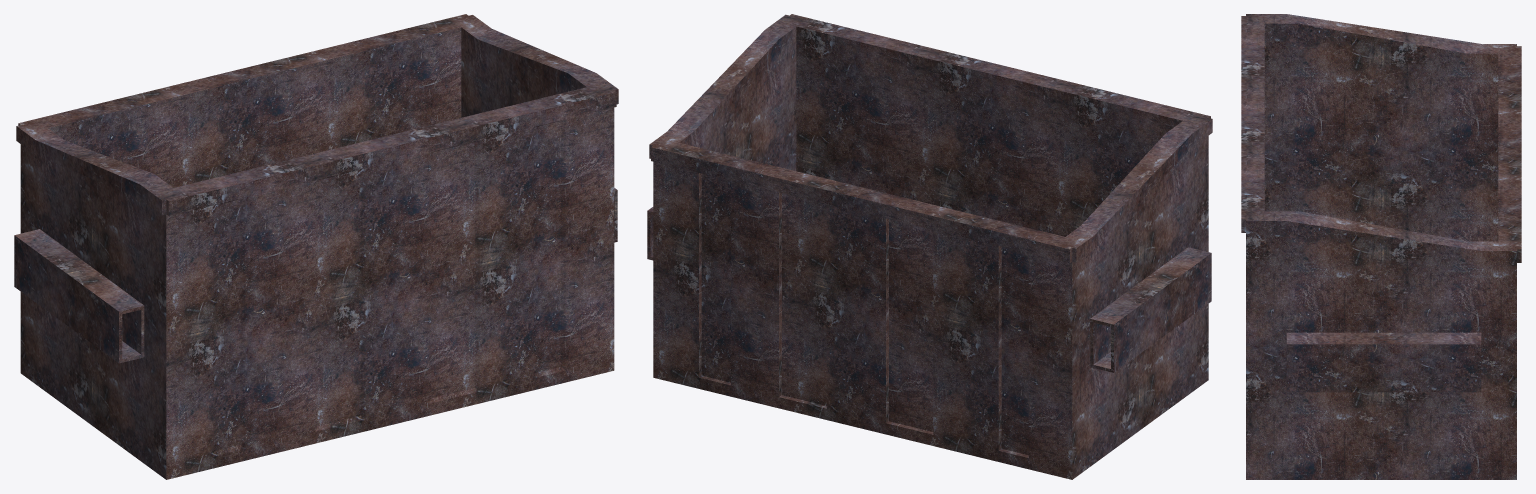
The model's file is Dumpster.obj.
The picture shows the model from 3 angles, left to right: view 1: azimuth 30°, elevation 25°; view 2: azimuth 150°, elevation 25°; view 3: azimuth 270°, elevation 25°; orthographic projection. The views are drawn at different scales.
Visible parts, largest first — view 1: Box001; view 2: Box001; view 3: Box001.
Part boxes in pixels (bbox=[...]): Box001: bbox=[14, 14, 618, 479]; Box001: bbox=[647, 14, 1212, 479]; Box001: bbox=[1241, 14, 1521, 479].
Bounding box in the file's own units: 135 × 72.34 × 70.44.
1 material, 1 textured.
